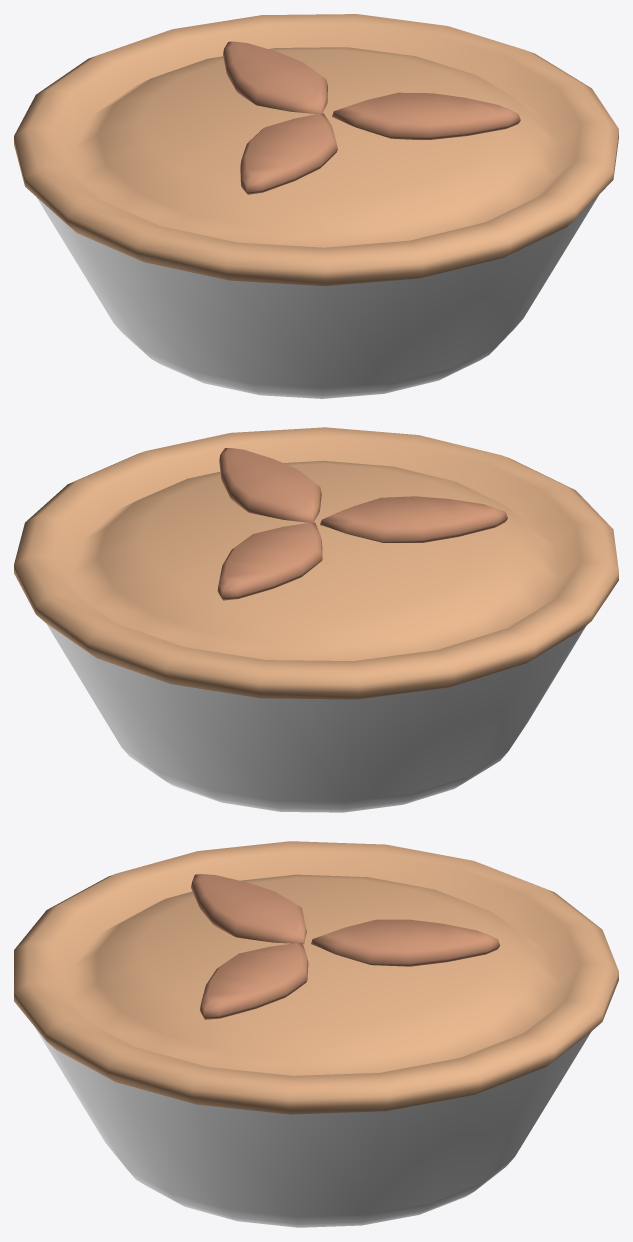
The model's file is mdl_Pie.fbx.
3 renders of one model, top to bottom at view 1: azimuth 30°, elevation 25°; view 2: azimuth 150°, elevation 25°; view 3: azimuth 270°, elevation 25°, orthographic.
Parts seen in each view (by area): view 1: Circle.007; view 2: Circle.007; view 3: Circle.007.
Part boxes in pixels (box(x1,y1,x2,y2)): Circle.007: box(14, 14, 618, 398); Circle.007: box(14, 427, 618, 812); Circle.007: box(14, 841, 618, 1227).
Size of the model in its own units: 279 by 110 by 278.
